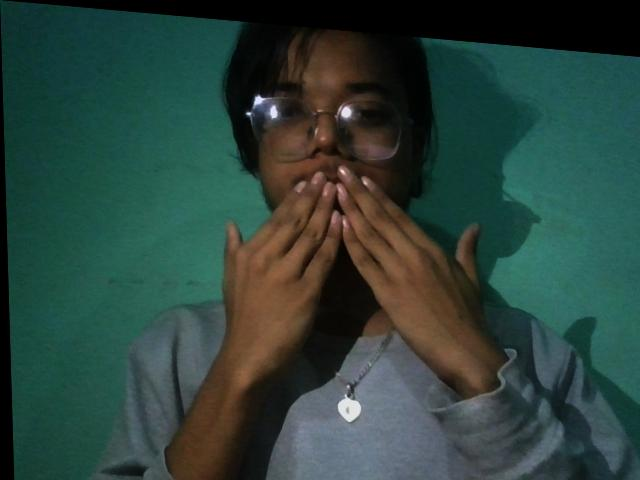Thank You: (180, 90, 546, 447)
